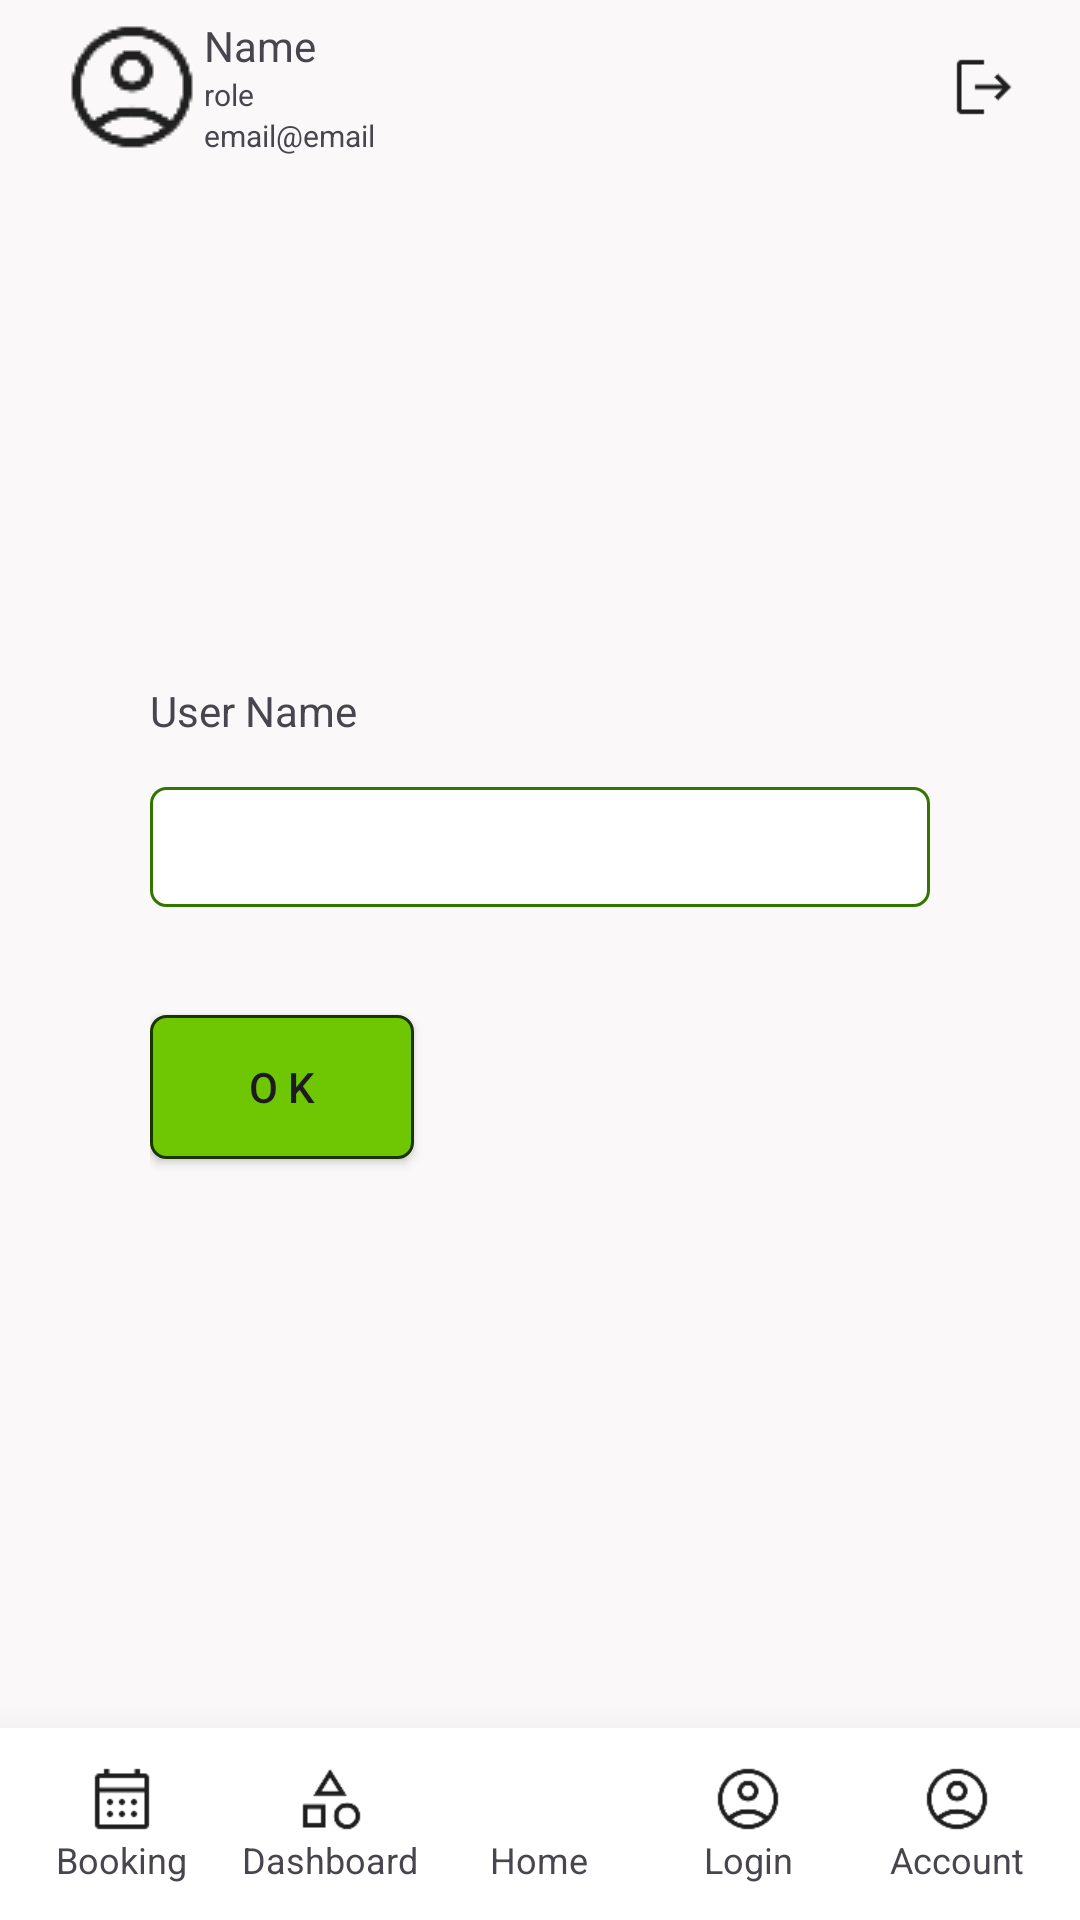

Icon click points for this 1080*1920 phone screenshot, format point (x, y):
calendar: point (122, 1799)
category: point (331, 1799)
